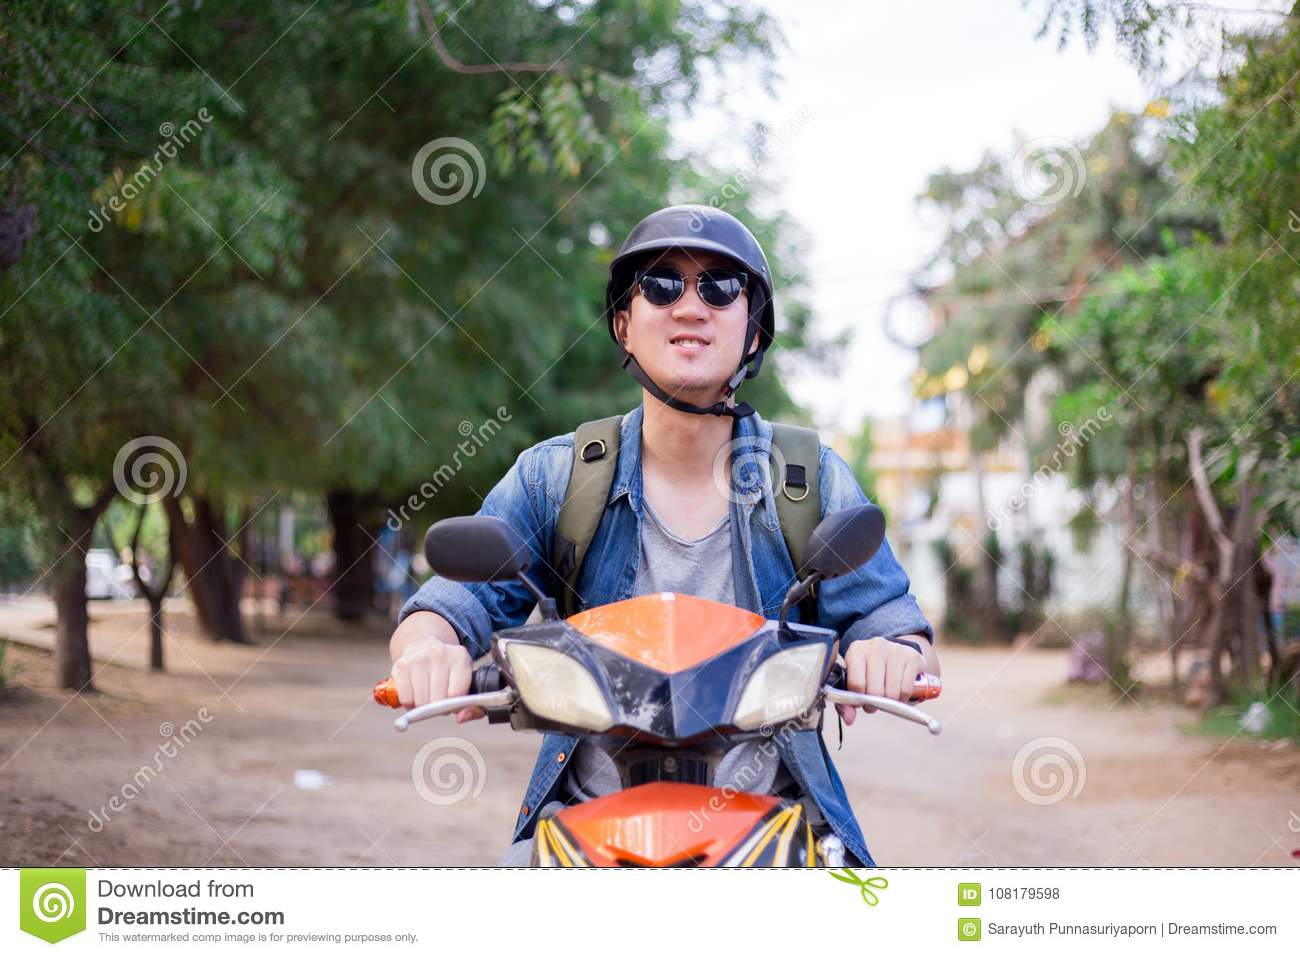helmet: (601, 216, 799, 319)
